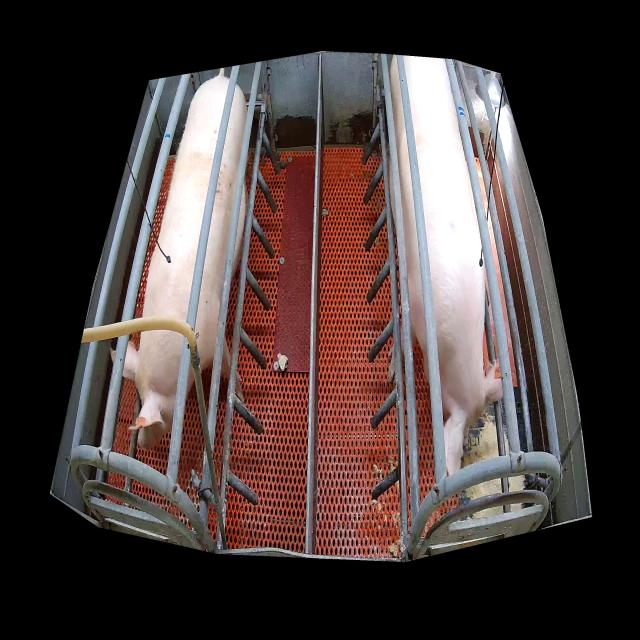pig: (390, 58, 503, 476), (122, 77, 247, 450)
